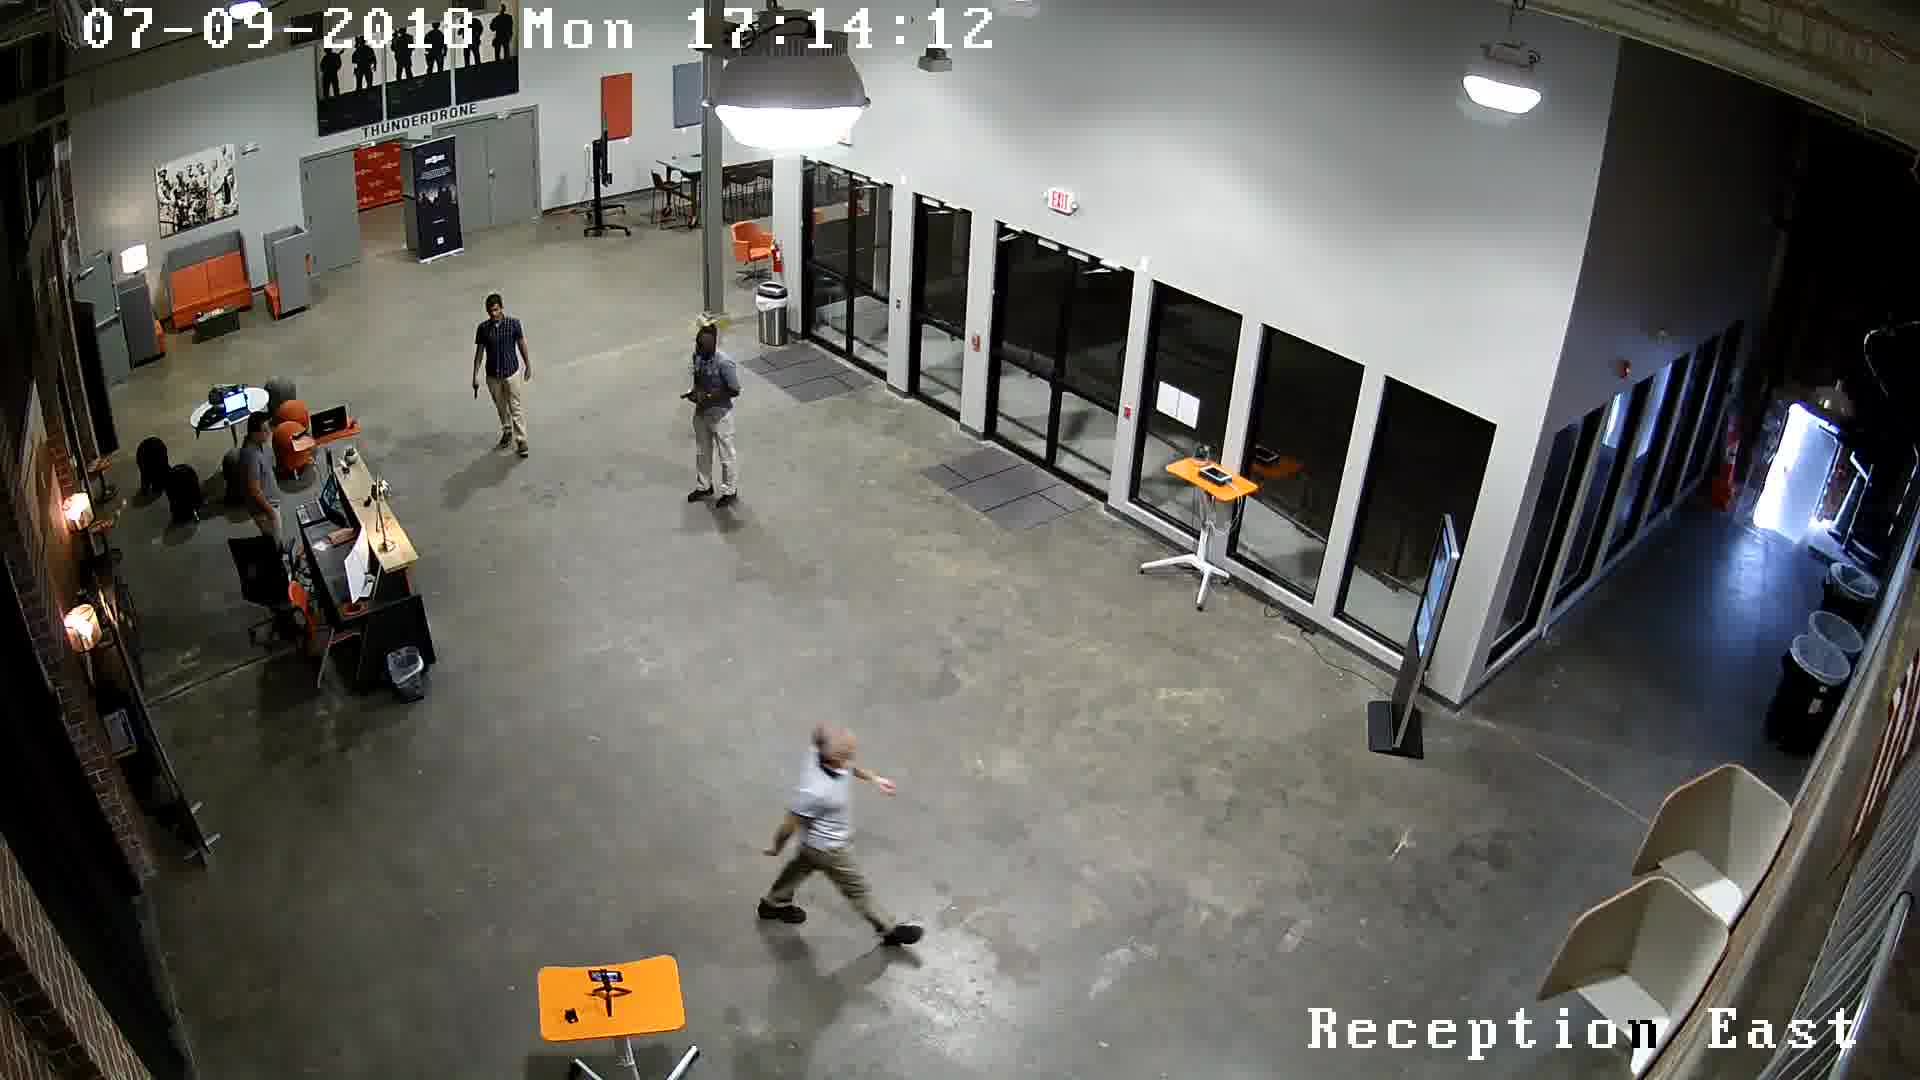pistol: (675, 384, 711, 414), (463, 378, 487, 411)
